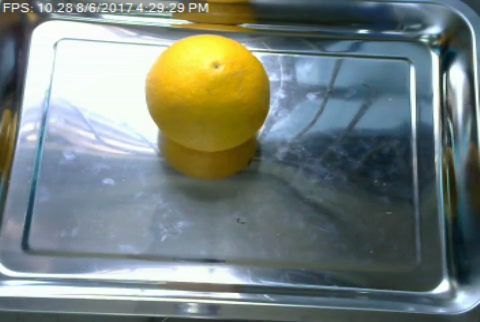Orange: (145, 33, 271, 153)
